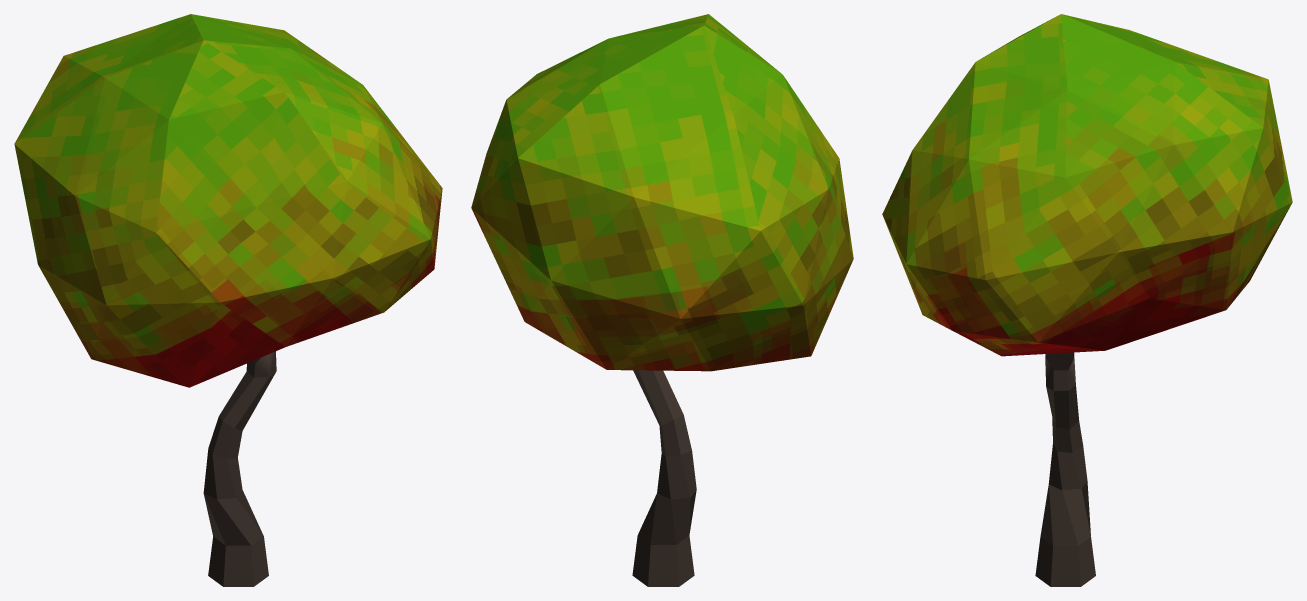
The model's file is tree1gree.glb.
3 renders of one model, left to right at view 1: azimuth 30°, elevation 25°; view 2: azimuth 150°, elevation 25°; view 3: azimuth 270°, elevation 25°, orthographic. The views are drawn at different scales.
Visible parts, largest first — view 1: Icosphere.001, Cylinder.001; view 2: Icosphere.001, Cylinder.001; view 3: Icosphere.001, Cylinder.001.
Boxes of the visible parts, left/top/right/bottom form: Icosphere.001: left=14, top=14, right=442, bottom=387; Cylinder.001: left=203, top=351, right=276, bottom=586; Icosphere.001: left=471, top=14, right=853, bottom=371; Cylinder.001: left=632, top=370, right=696, bottom=586; Icosphere.001: left=882, top=14, right=1292, bottom=356; Cylinder.001: left=1035, top=352, right=1095, bottom=586.
Size of the model in its own units: 12.62 by 19.79 by 13.54.
Materials: 2 (1 with a texture image).
